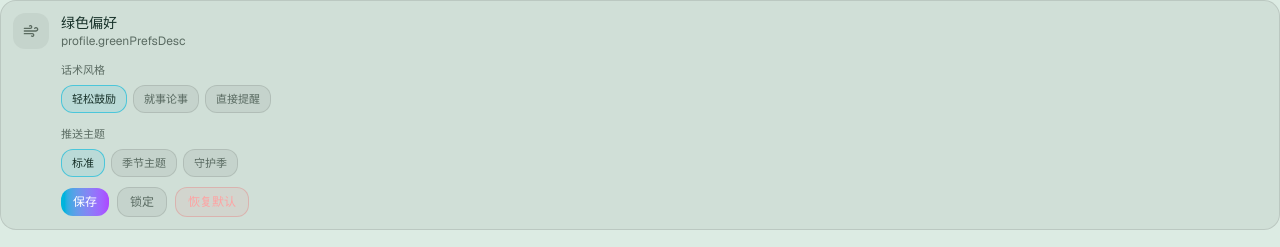
Test: GreenPreferencesSection 绿色偏好 › 锁定按钮双态切换
Click the button "锁定".
click(142, 202)  # box [117,187,167,217]
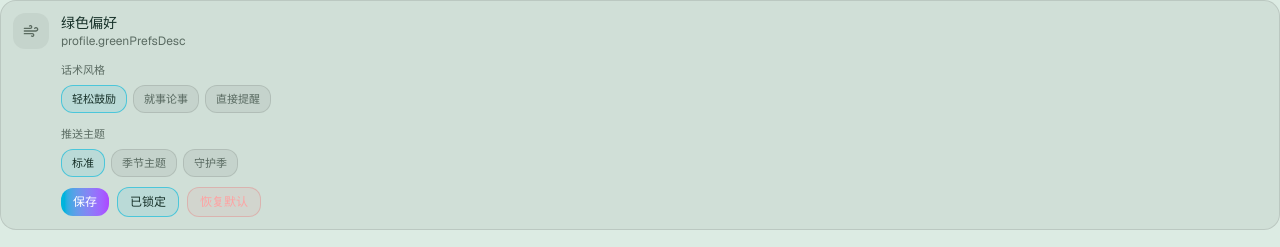
Check: the button "已锁定" is shown, box [117,187,179,217]
